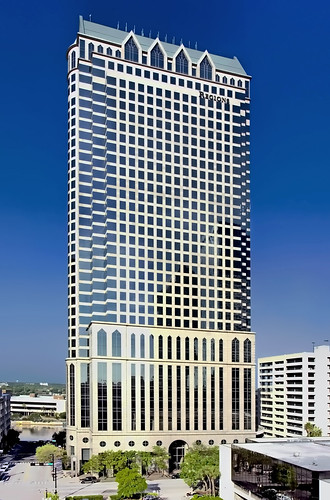medium: (63, 13, 261, 456)
